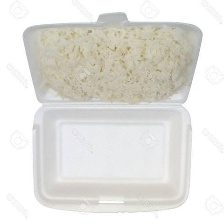foam_box: (17, 10, 206, 216)
